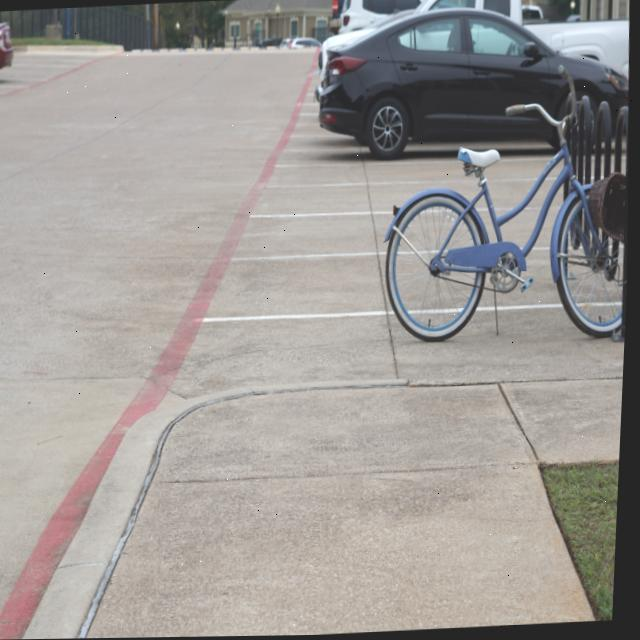Automobile: (320, 11, 629, 142), (530, 23, 629, 83), (414, 0, 521, 22), (341, 0, 420, 29), (0, 26, 7, 62)
Obstacle: (387, 98, 629, 340)
Road: (0, 52, 627, 640)
Sidewalk: (30, 367, 627, 639)
